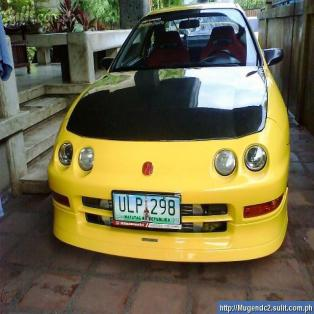Auto: (47, 1, 293, 267)
